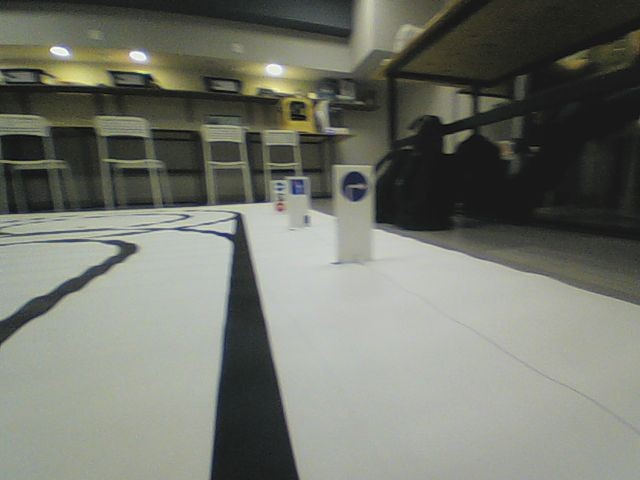Right: (340, 169, 368, 203)
